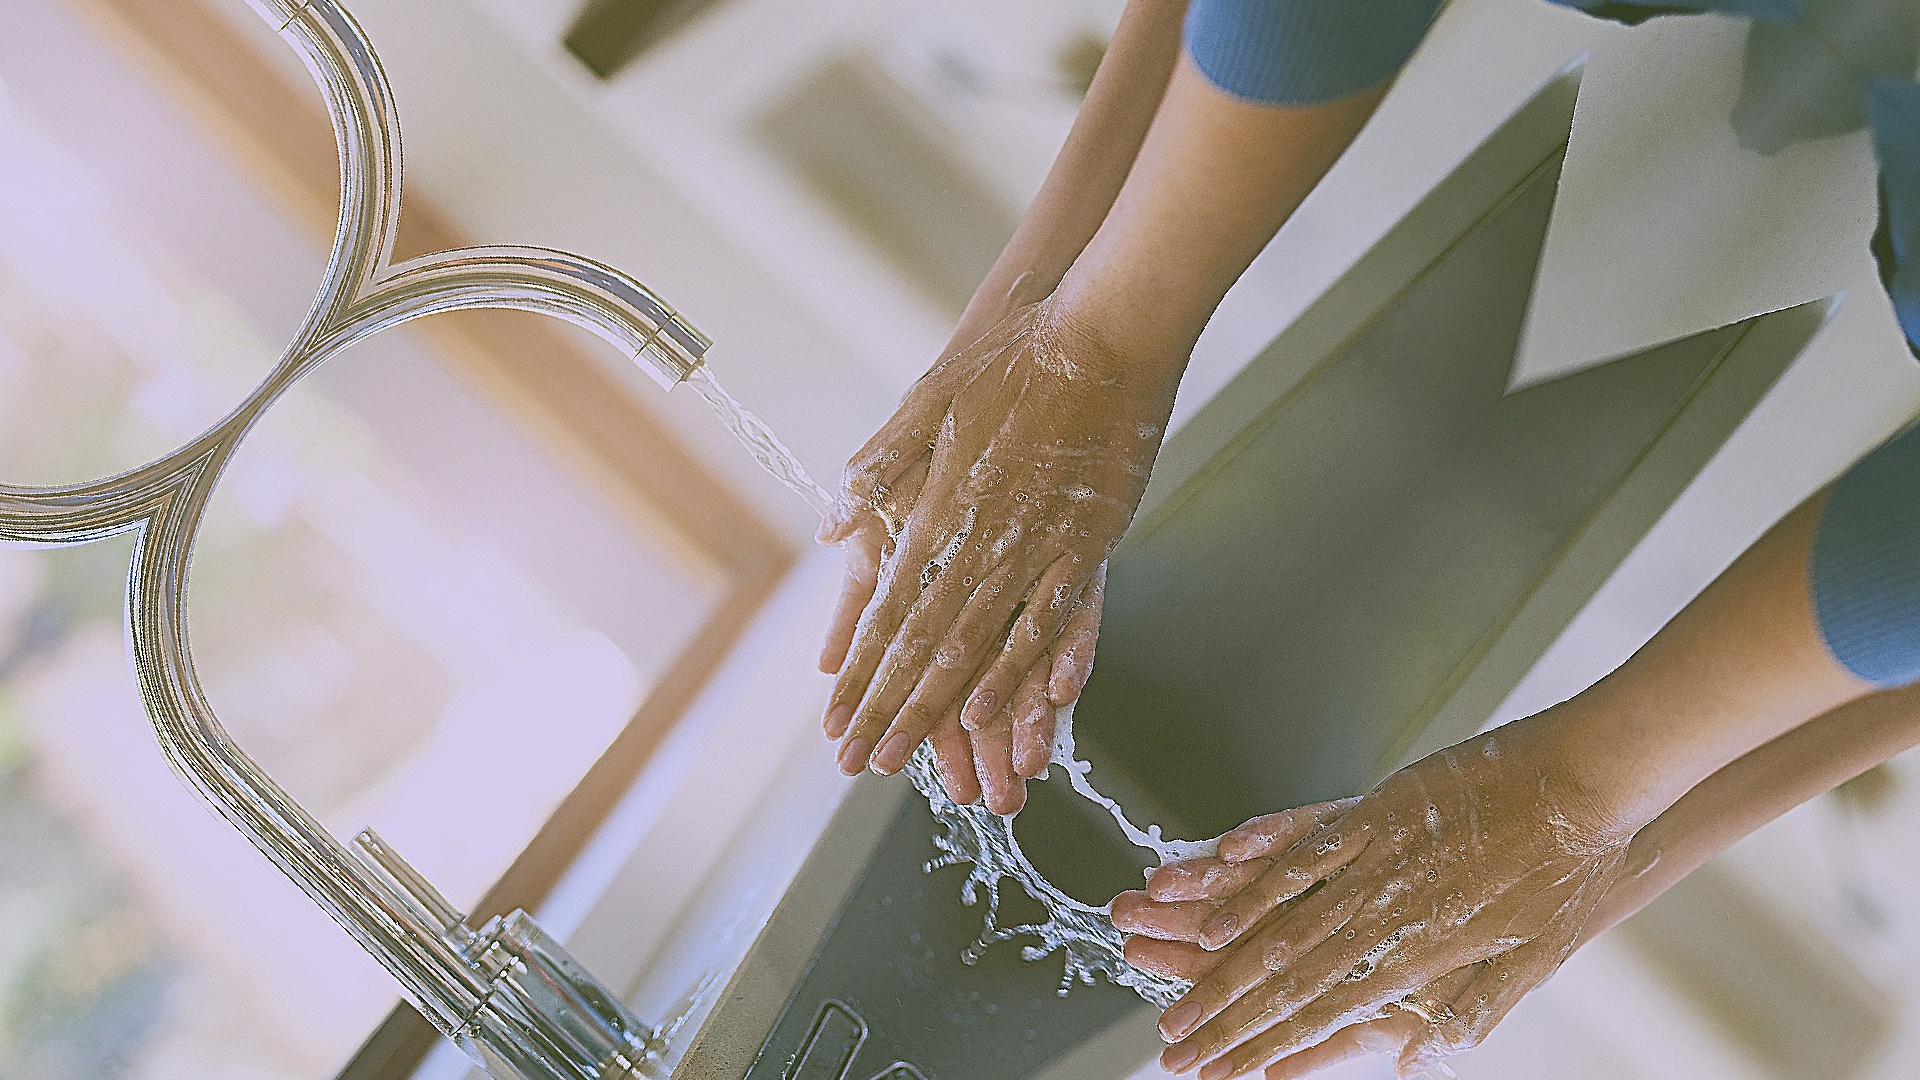washing hand: (152, 0, 1331, 1079)
